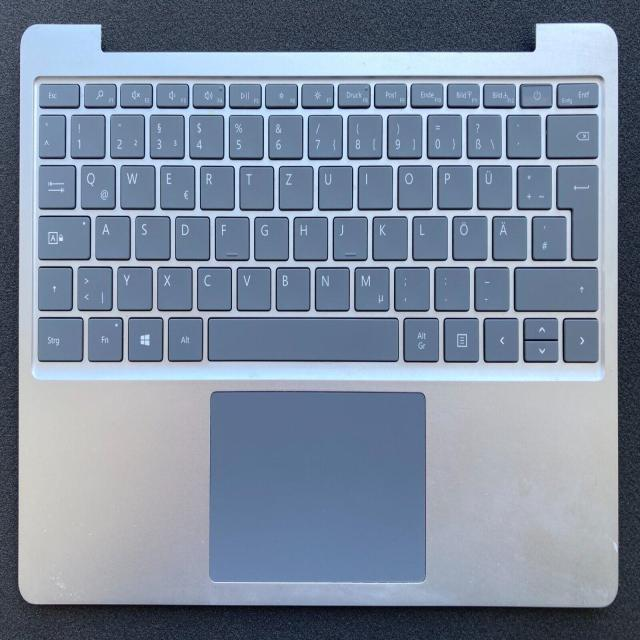0: (424, 110, 460, 157)
1: (68, 110, 104, 156)
2: (107, 110, 143, 156)
3: (146, 110, 183, 156)
4: (187, 110, 221, 156)
5: (226, 111, 261, 157)
6: (266, 111, 301, 157)
7: (305, 111, 341, 157)
8: (344, 110, 380, 157)
9: (384, 110, 420, 157)
a: (92, 212, 129, 257)
accent: (504, 110, 540, 156)
ae: (490, 213, 526, 259)
alt-left: (165, 314, 202, 360)
altgr-right: (401, 314, 438, 361)
b: (273, 263, 309, 308)
c: (194, 263, 230, 309)
caret: (37, 110, 64, 156)
comma: (391, 262, 428, 309)
d: (173, 213, 209, 259)
del: (545, 109, 599, 157)
e: (157, 161, 193, 208)
enter: (555, 160, 598, 258)
f: (212, 212, 248, 258)
g: (251, 213, 287, 258)
h: (291, 213, 326, 259)
hash: (530, 213, 565, 259)
i: (355, 162, 391, 208)
j: (331, 213, 366, 259)
k: (370, 212, 406, 258)
keyboard: (27, 65, 610, 377)
l: (411, 212, 446, 258)
less: (74, 262, 111, 308)
m: (352, 263, 388, 310)
minus: (472, 263, 507, 308)
n: (312, 263, 348, 309)
o: (395, 161, 431, 208)
oe: (450, 212, 486, 258)
p: (435, 162, 471, 208)
plus: (514, 162, 550, 208)
point: (432, 263, 468, 308)
q: (77, 162, 114, 208)
r: (198, 162, 233, 208)
s: (132, 213, 169, 259)
shift-left: (36, 262, 71, 308)
shift-lock: (35, 212, 89, 259)
shift-right: (512, 263, 598, 310)
space: (205, 314, 398, 361)
ss: (464, 110, 500, 156)
strg-left: (33, 313, 82, 360)
t: (237, 162, 272, 208)
tab: (36, 160, 74, 207)
u: (315, 162, 351, 208)
ue: (475, 162, 511, 209)
v: (234, 263, 270, 308)
w: (117, 160, 153, 207)
x: (155, 263, 191, 308)
y: (115, 263, 151, 308)
z: (276, 162, 312, 208)
